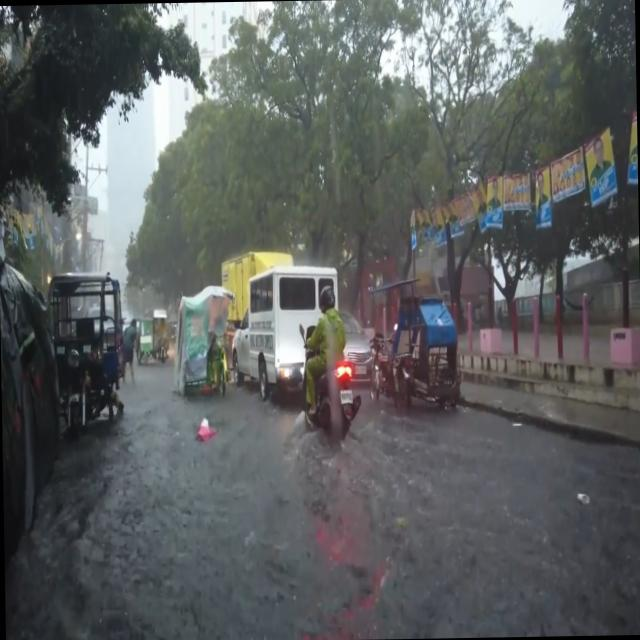full: (318, 285, 335, 315)
